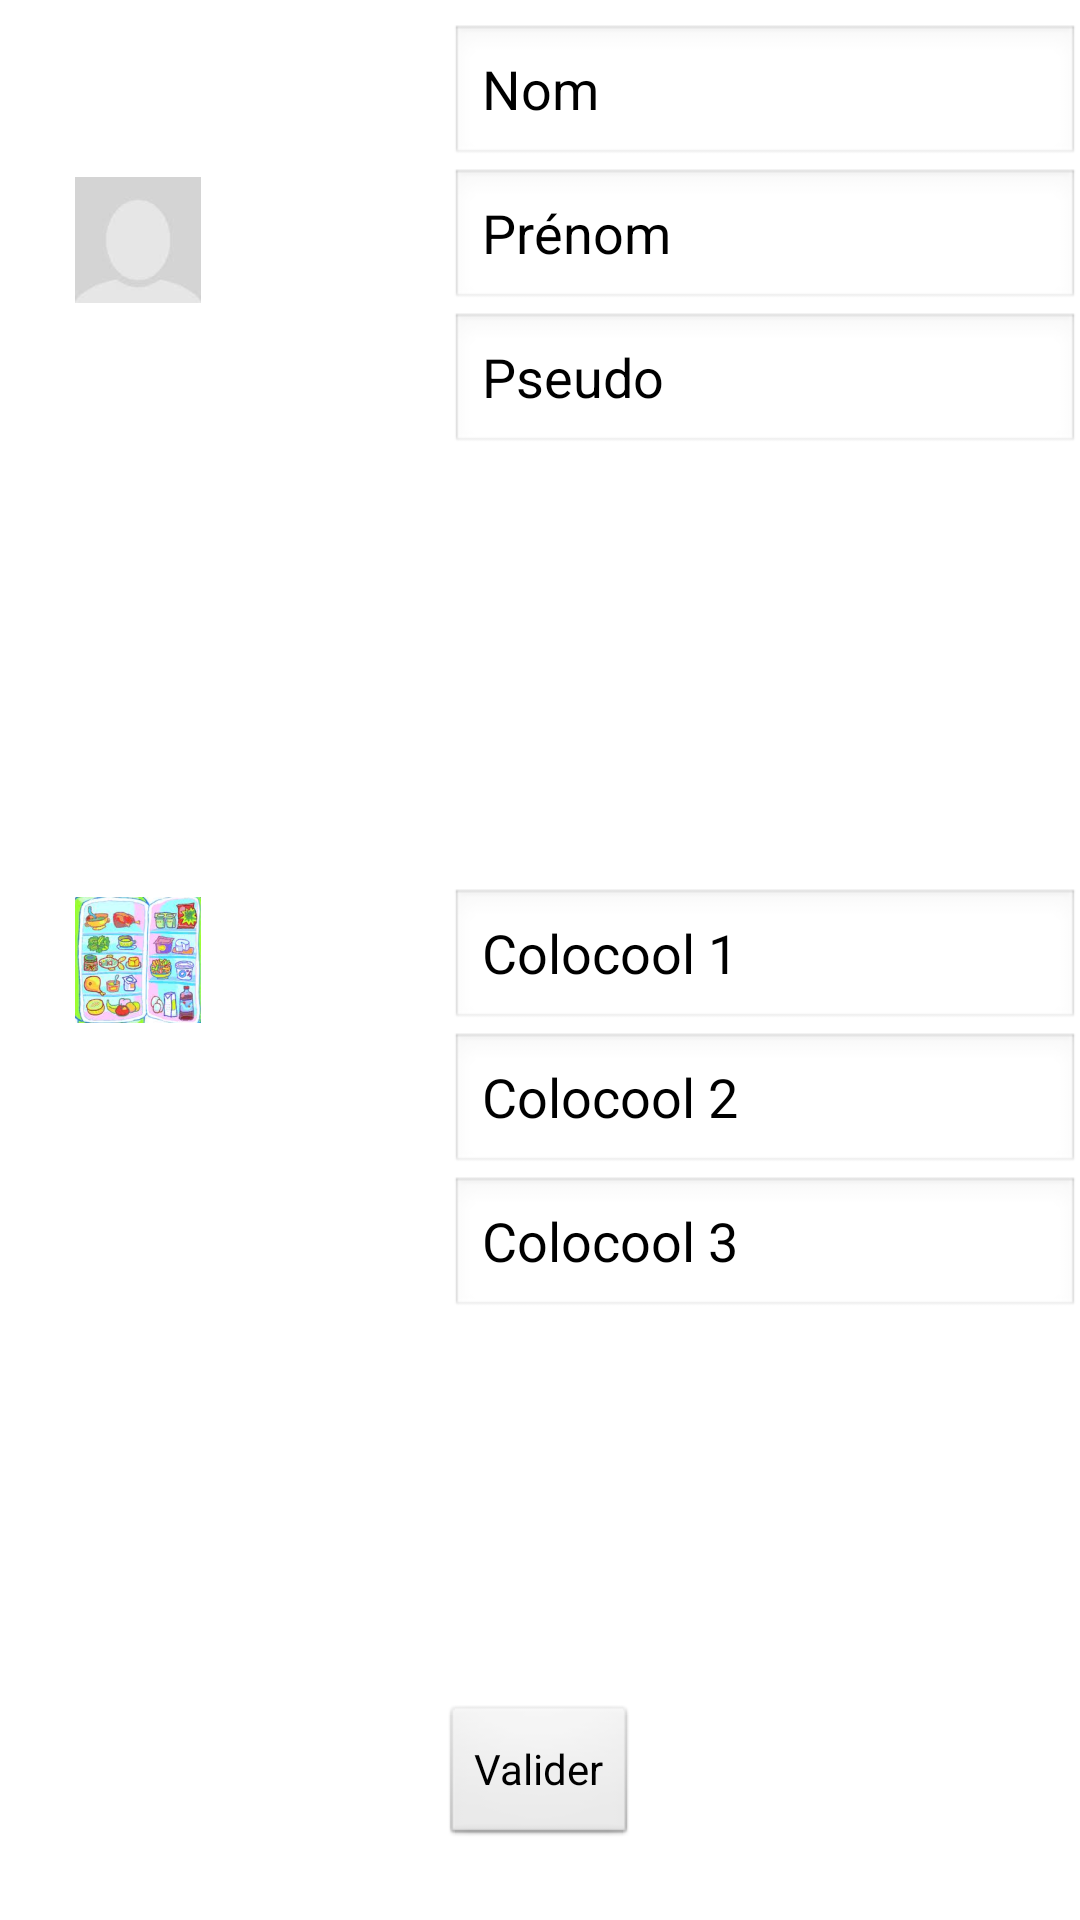

Screen size 1080 x 1920. Icon name, then its center in pixels as (x,y):
photodefault: (138,240)
